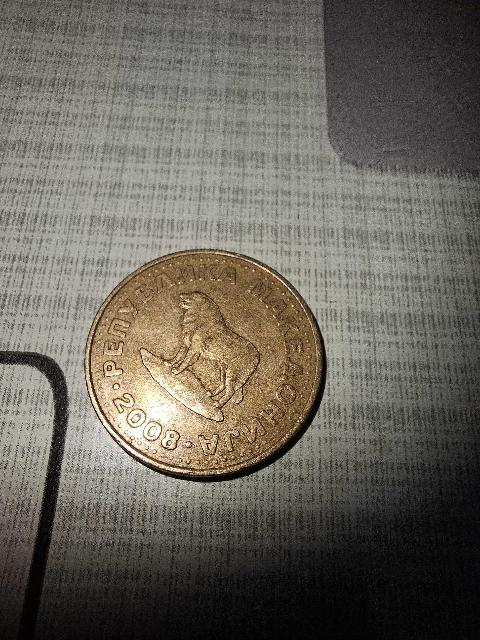1_coin: (85, 250, 322, 477)
